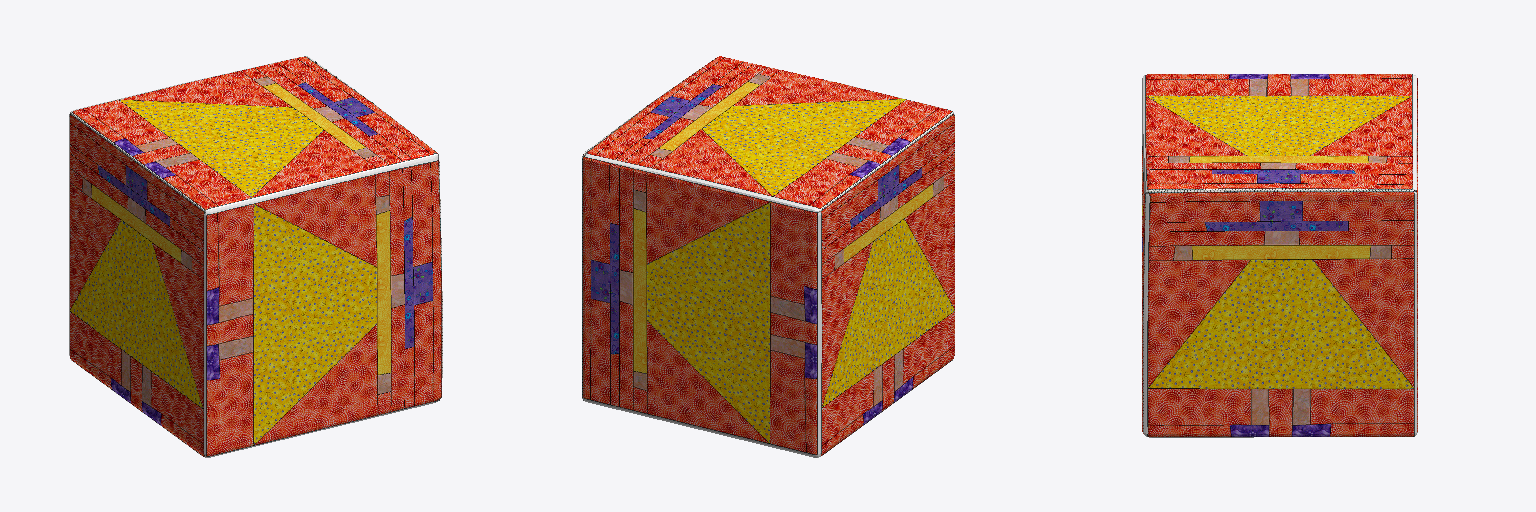
3 views of the same model, side by side, from view 1: azimuth 30°, elevation 25°; view 2: azimuth 150°, elevation 25°; view 3: azimuth 270°, elevation 25° (orthographic).
Bounding box in the file's own units: 1.02 × 1.02 × 1.02.
Materials: 1 (1 with a texture image).